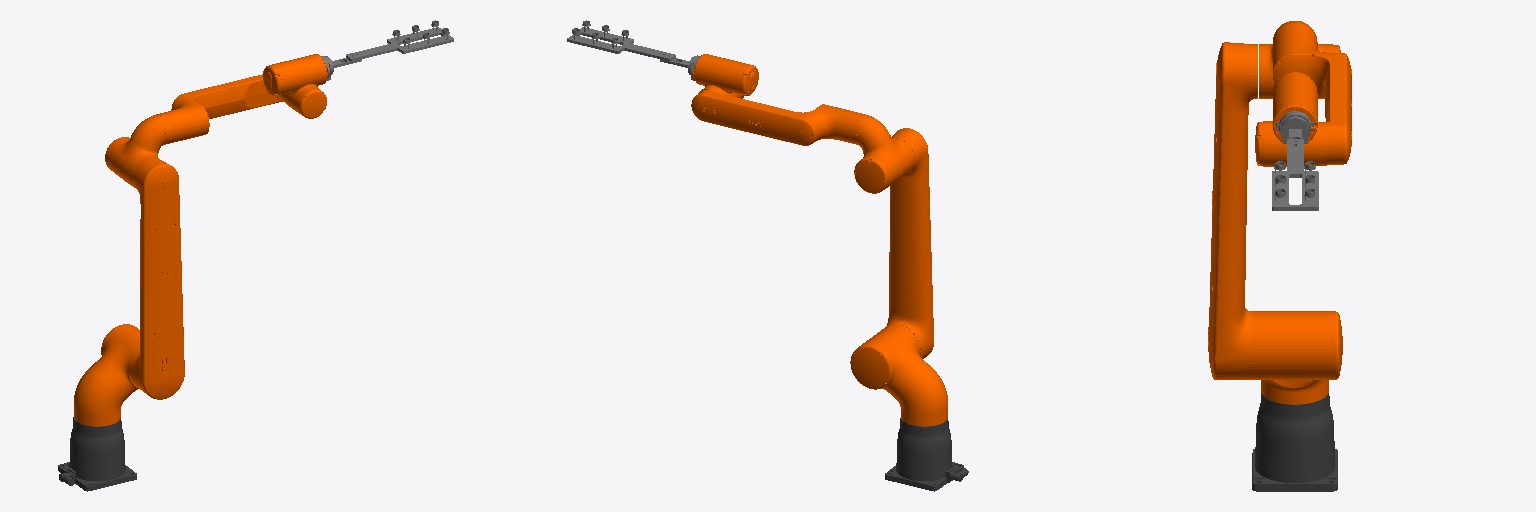
The robot description file, URDF, robot "gofa_with_carrier":
<?xml version="1.0"?>
<robot name="gofa_with_carrier">

  <!-- ===== CRB Robot links and joints (copied fully from CRB15000_10_152_v3.urdf) ===== -->
  <!-- Materials -->
  <material name="abb_orange"><color rgba="1.0 0.43 0.0 1.0"/></material>
  <material name="abb_dark_gray"><color rgba="0.3 0.3 0.3 1.0"/></material>
  <material name="gripper_and_cathode"><color rgba="0.5 0.5 0.5 1.0"/></material>

  <!-- Base link -->
  <link name="base_link">
    <visual>
      <origin xyz="0 0 0" rpy="0 0 0"/> <!-- raised 800 mm -->
      <geometry>
        <mesh filename="package://ifpt_gofa/urdf/gofa_description/meshes/CRB15000_10kg-152_Omnicore_rev00_LINK00_CAD.stl"/>
      </geometry>
      <material name="abb_dark_gray"/>
    </visual>
    <collision>
      <origin xyz="0 0 0" rpy="0 0 0"/> <!-- raised 800 mm -->
      <geometry>
        <mesh filename="package://ifpt_gofa/urdf/gofa_description/meshes/CRB15000_10kg-152_Omnicore_rev00_LINK00_CAD.stl"/>
      </geometry>
    </collision>
    <inertial>
      <mass value="15.0"/>
      <origin xyz="0 0 0.1" rpy="0 0 0"/>
      <inertia ixx="0.5" ixy="0" ixz="0" iyy="0.5" iyz="0" izz="0.5"/>
    </inertial>
  </link>

  <!-- Link 1 -->
  <link name="link_1">
    <visual>
      <origin xyz="0 0 0" rpy="0 0 0"/>
      <geometry>
        <mesh filename="package://ifpt_gofa/urdf/gofa_description/meshes/CRB15000_10kg-152_Omnicore_rev00_LINK01_CAD.stl"/>
      </geometry>
      <material name="abb_orange"/>
    </visual>
    <collision>
      <origin xyz="0 0 0" rpy="0 0 0"/>
      <geometry>
        <mesh filename="package://ifpt_gofa/urdf/gofa_description/meshes/CRB15000_10kg-152_Omnicore_rev00_LINK01_CAD.stl"/>
      </geometry>
    </collision>
    <inertial>
      <mass value="10.0"/>
      <origin xyz="0 0 0.1" rpy="0 0 0"/>
      <inertia ixx="0.4" ixy="0" ixz="0" iyy="0.4" iyz="0" izz="0.3"/>
    </inertial>
  </link>

  <!-- Link 2 -->
  <link name="link_2">
    <visual>
      <origin xyz="-0.15 0 -0.4" rpy="0 0 0"/>
      <geometry>
        <mesh filename="package://ifpt_gofa/urdf/gofa_description/meshes/CRB15000_10kg-152_Omnicore_rev00_LINK02_CAD.stl"/>
      </geometry>
      <material name="abb_orange"/>
    </visual>
    <collision>
      <origin xyz="-0.15 0 -0.4" rpy="0 0 0"/>
      <geometry>
        <mesh filename="package://ifpt_gofa/urdf/gofa_description/meshes/CRB15000_10kg-152_Omnicore_rev00_LINK02_CAD.stl"/>
      </geometry>
    </collision>
    <inertial>
      <mass value="9.0"/>
      <origin xyz="0 0 0" rpy="0 0 0"/>
      <inertia ixx="1.0" ixy="0" ixz="0" iyy="1.0" iyz="0" izz="0.2"/>
    </inertial>
  </link>

  <!-- Link 3 -->
  <link name="link_3">
    <visual>
      <origin xyz="-0.15 -0.085 -1.107" rpy="0 0 0"/>
      <geometry>
        <mesh filename="package://ifpt_gofa/urdf/gofa_description/meshes/CRB15000_10kg-152_Omnicore_rev00_LINK03_CAD.stl"/>
      </geometry>
      <material name="abb_orange"/>
    </visual>
    <collision>
      <origin xyz="-0.15 -0.085 -1.107" rpy="0 0 0"/>
      <geometry>
        <mesh filename="package://ifpt_gofa/urdf/gofa_description/meshes/CRB15000_10kg-152_Omnicore_rev00_LINK03_CAD.stl"/>
      </geometry>
    </collision>
    <inertial>
      <mass value="8.0"/>
      <origin xyz="0 0 0.3" rpy="0 0 0"/>
      <inertia ixx="0.8" ixy="0" ixz="0" iyy="0.8" iyz="0" izz="0.2"/>
    </inertial>
  </link>

  <!-- Link 4 -->
  <link name="link_4">
    <visual>
      <origin xyz="-0.247 0 -1.217" rpy="0 0 0"/>
      <geometry>
        <mesh filename="package://ifpt_gofa/urdf/gofa_description/meshes/CRB15000_10kg-152_Omnicore_rev00_LINK04_CAD.stl"/>
      </geometry>
      <material name="abb_orange"/>
    </visual>
    <collision>
      <origin xyz="-0.247 0 -1.217" rpy="0 0 0"/>
      <geometry>
        <mesh filename="package://ifpt_gofa/urdf/gofa_description/meshes/CRB15000_10kg-152_Omnicore_rev00_LINK04_CAD.stl"/>
      </geometry>
    </collision>
    <inertial>
      <mass value="4.0"/>
      <origin xyz="0 0 0" rpy="0 0 0"/>
      <inertia ixx="0.1" ixy="0" ixz="0" iyy="0.1" iyz="0" izz="0.1"/>
    </inertial>
  </link>

  <!-- Link 5 -->
  <link name="link_5">
    <visual>
      <origin xyz="-0.792 -0.0745 -1.217" rpy="0 0 0"/>
      <geometry>
        <mesh filename="package://ifpt_gofa/urdf/gofa_description/meshes/CRB15000_10kg-152_Omnicore_rev00_LINK05_CAD.stl"/>
      </geometry>
      <material name="abb_orange"/>
    </visual>
    <collision>
      <origin xyz="-0.792 -0.0745 -1.217" rpy="0 0 0"/>
      <geometry>
        <mesh filename="package://ifpt_gofa/urdf/gofa_description/meshes/CRB15000_10kg-152_Omnicore_rev00_LINK05_CAD.stl"/>
      </geometry>
    </collision>
    <inertial>
      <mass value="3.0"/>
      <origin xyz="0 0 0" rpy="0 0 0"/>
      <inertia ixx="0.05" ixy="0" ixz="0" iyy="0.05" iyz="0" izz="0.05"/>
    </inertial>
  </link>

  <!-- Link 6 -->
  <link name="link_6">
    <visual>
      <origin xyz="-0.8604 0 -1.297" rpy="0 0 0"/>
      <geometry>
        <mesh filename="package://ifpt_gofa/urdf/gofa_description/meshes/CRB15000_10kg-152_Omnicore_rev00_LINK06_CAD.stl"/>
      </geometry>
      <material name="abb_orange"/>
    </visual>
    <collision>
      <origin xyz="-0.8604 0 -1.297" rpy="0 0 0"/>
      <geometry>
        <mesh filename="package://ifpt_gofa/urdf/gofa_description/meshes/CRB15000_10kg-152_Omnicore_rev00_LINK06_CAD.stl"/>
      </geometry>
    </collision>
    <inertial>
      <mass value="2.0"/>
      <origin xyz="0 0 0" rpy="0 0 0"/>
      <inertia ixx="0.01" ixy="0" ixz="0" iyy="0.01" iyz="0" izz="0.01"/>
    </inertial>
  </link>

  <!-- Joints (1-6) copied from original CRB URDF -->
  <joint name="joint_1" type="revolute">
    <parent link="base_link"/>
    <child link="link_1"/>
    <origin xyz="0 0 0" rpy="0 0 0"/>
    <axis xyz="0 0 1"/>
    <limit lower="-4.71239" upper="4.71239" effort="100" velocity="2.0944"/>
    <dynamics damping="50" friction="1"/>
  </joint>
  <joint name="joint_2" type="revolute">
    <parent link="link_1"/>
    <child link="link_2"/>
    <origin xyz="0.15 0 0.4" rpy="0 0 0"/>
    <axis xyz="0 1 0"/>
    <limit lower="-3.14159" upper="3.14159" effort="100" velocity="2.0944"/>
    <dynamics damping="50" friction="1"/>
  </joint>
  <joint name="joint_3" type="revolute">
    <parent link="link_2"/>
    <child link="link_3"/>
    <origin xyz="0 0.085 0.707" rpy="0 0 0"/>
    <axis xyz="0 1 0"/>
    <limit lower="-3.92699" upper="1.48353" effort="100" velocity="2.1817"/>
    <dynamics damping="40" friction="1"/>
  </joint>
  <joint name="joint_4" type="revolute">
    <parent link="link_3"/>
    <child link="link_4"/>
    <origin xyz="0.093 -0.085 0.11" rpy="0 0 0"/>
    <axis xyz="1 0 0"/>
    <limit lower="-3.14159" upper="3.14159" effort="30" velocity="3.49066"/>
    <dynamics damping="30" friction="0.5"/>
  </joint>
  <joint name="joint_5" type="revolute">
    <parent link="link_4"/>
    <child link="link_5"/>
    <origin xyz="0.549 0.0745 0" rpy="0 0 0"/>
    <axis xyz="0 1 0"/>
    <limit lower="-3.14159" upper="3.14159" effort="30" velocity="3.49066"/>
    <dynamics damping="20" friction="0.5"/>
  </joint>
  <joint name="joint_6" type="revolute">
    <parent link="link_5"/>
    <child link="link_6"/>
    <origin xyz="0.0684 -0.0745 0.08" rpy="0 0 0"/>
    <axis xyz="1 0 0"/>
    <limit lower="-4.71239" upper="4.71239" effort="20" velocity="3.49066"/>
    <dynamics damping="10" friction="0.3"/>
  </joint>

  <!-- ===== Carrier ===== -->
  <link name="carrier">
    <visual>
      <geometry>
        <mesh filename="package://gofa_viz/resource/carrier_meshes/carrier_full.STL" scale="0.001 0.001 0.001"/>
      </geometry>
      <material name="gray">
        <color rgba="0.5 0.5 0.5 1"/>
      </material>
    </visual>
    <collision>
      <geometry>
        <mesh filename="package://gofa_viz/resource/carrier_meshes/carrier_full.STL" scale="0.001 0.001 0.001"/>
      </geometry>
    </collision>
  </link>

  <joint name="hand_to_carrier" type="fixed">
    <parent link="link_6"/>
    <child link="carrier"/>
    <origin xyz="-0.01 -0.055 -0.04" rpy="0 0 0"/>
  </joint>


  <!-- ===== ROS2 Control Configuration ===== -->
  <ros2_control name="gofa_robot" type="system">
    <hardware>
      <plugin>fake_components/GenericSystem</plugin>
      <param name="position_state_following_offset">0.0</param>
    </hardware>
    <joint name="joint_1">
      <command_interface name="position"/>
      <state_interface name="position"/>
      <state_interface name="velocity"/>
    </joint>
    <joint name="joint_2">
      <command_interface name="position"/>
      <state_interface name="position"/>
      <state_interface name="velocity"/>
    </joint>
    <joint name="joint_3">
      <command_interface name="position"/>
      <state_interface name="position"/>
      <state_interface name="velocity"/>
    </joint>
    <joint name="joint_4">
      <command_interface name="position"/>
      <state_interface name="position"/>
      <state_interface name="velocity"/>
    </joint>
    <joint name="joint_5">
      <command_interface name="position"/>
      <state_interface name="position"/>
      <state_interface name="velocity"/>
    </joint>
    <joint name="joint_6">
      <command_interface name="position"/>
      <state_interface name="position"/>
      <state_interface name="velocity"/>
    </joint>
  </ros2_control>

</robot>

--- What the picture shows (computed from the rendered views, not written in the file) ---
The picture shows the robot from 3 angles, left to right: view 1: azimuth 30°, elevation 25°; view 2: azimuth 150°, elevation 25°; view 3: azimuth 270°, elevation 25°; orthographic projection.
Robot: gofa_with_carrier — 8 links, 7 joints (6 revolute, 1 fixed); root link base_link; default pose: every joint at zero.
Visible links, largest first — view 1: link_2, link_1, link_4, base_link, link_5, link_3, carrier; view 2: link_2, link_1, link_4, base_link, link_3, link_5, carrier; view 3: link_2, link_1, base_link, link_4, link_5, carrier, link_3.
Boxes of the visible links, x1,y1,x2,y2 form: link_2: [130, 157, 184, 399]; link_1: [74, 324, 139, 426]; link_4: [158, 74, 282, 144]; base_link: [58, 417, 136, 491]; link_5: [263, 54, 326, 118]; link_3: [105, 114, 167, 187]; carrier: [321, 20, 453, 80]; link_2: [886, 128, 933, 358]; link_1: [850, 324, 947, 426]; link_4: [691, 90, 862, 145]; base_link: [885, 418, 968, 491]; link_3: [854, 114, 914, 193]; link_5: [695, 54, 758, 98]; carrier: [567, 20, 699, 80]; link_2: [1208, 42, 1257, 379]; link_1: [1254, 311, 1342, 404]; base_link: [1252, 393, 1337, 491]; link_4: [1273, 25, 1351, 164]; link_5: [1255, 72, 1326, 166]; carrier: [1272, 111, 1318, 210]; link_3: [1259, 21, 1340, 98].
Size in the robot's own frame: 1.49 by 0.3367 by 1.35 metres.
Meshes: 8 distinct files referenced, 8 mesh visuals loaded (8 binary STL).
